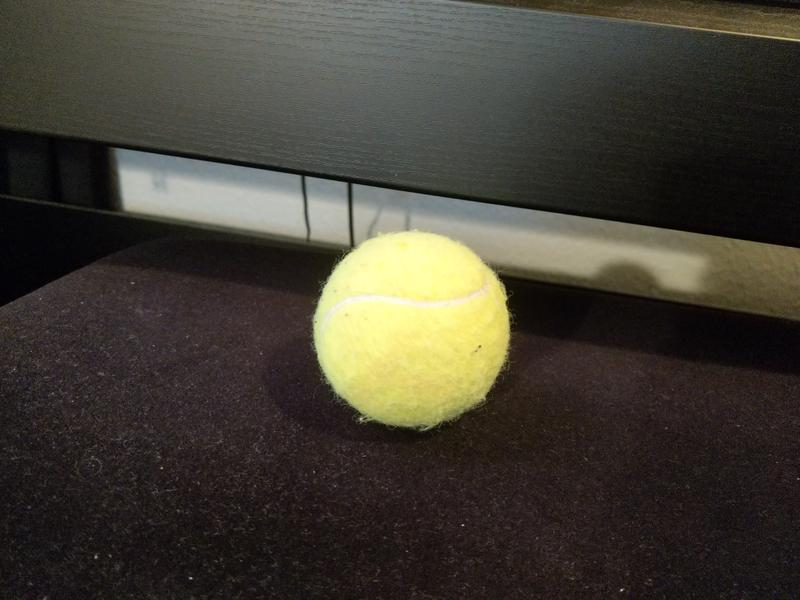Tennisball: (304, 225, 517, 434)
